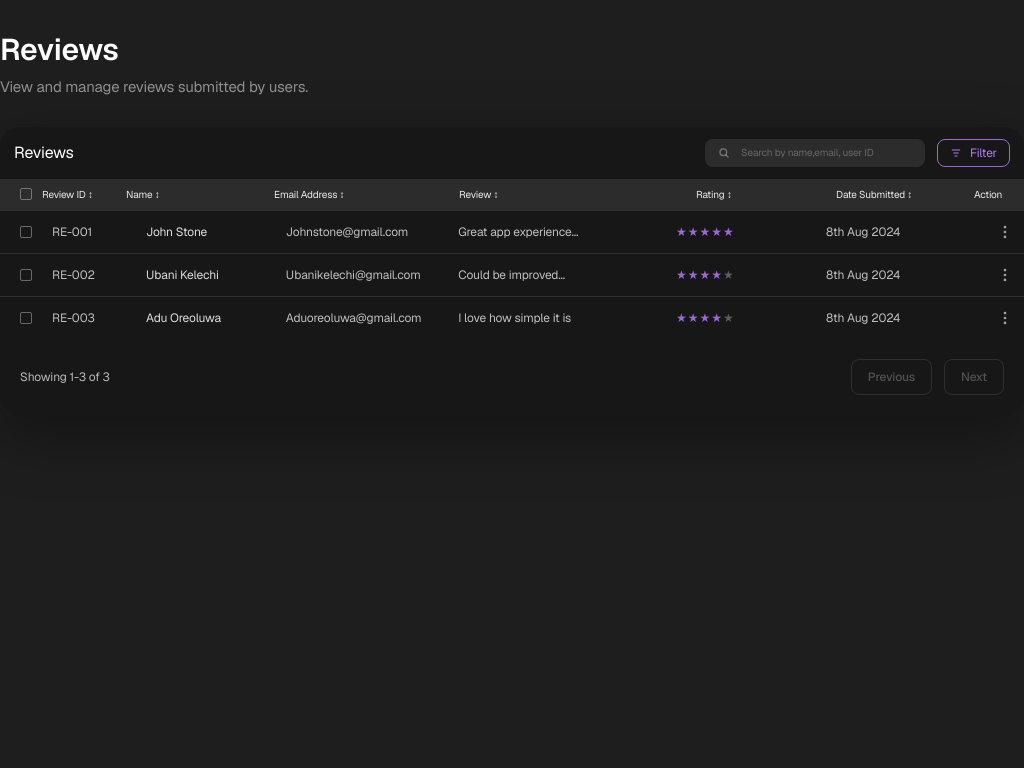
it: ReviewsPage › opens review filter and loaded details locally
Click the button "Filter": (974, 152) [937,138,1010,166]
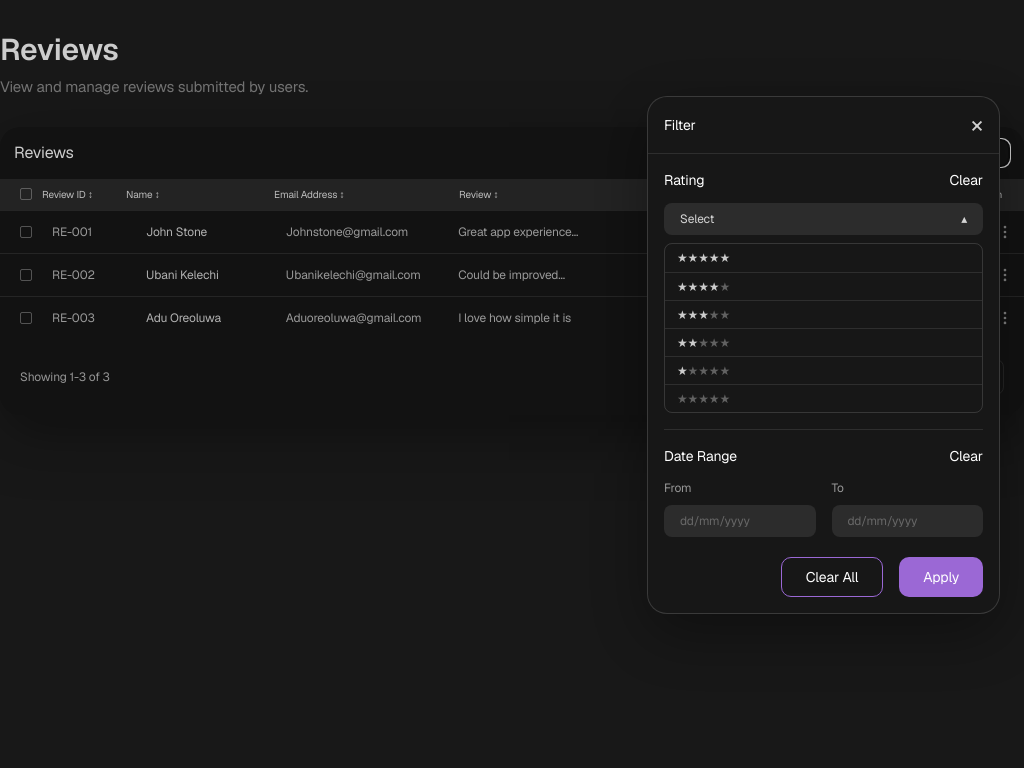
Result: the heading "Filter" is shown at [664,114,696,136]
Click the button named "Dismiss reviews filter": (977, 125) [971,113,983,137]
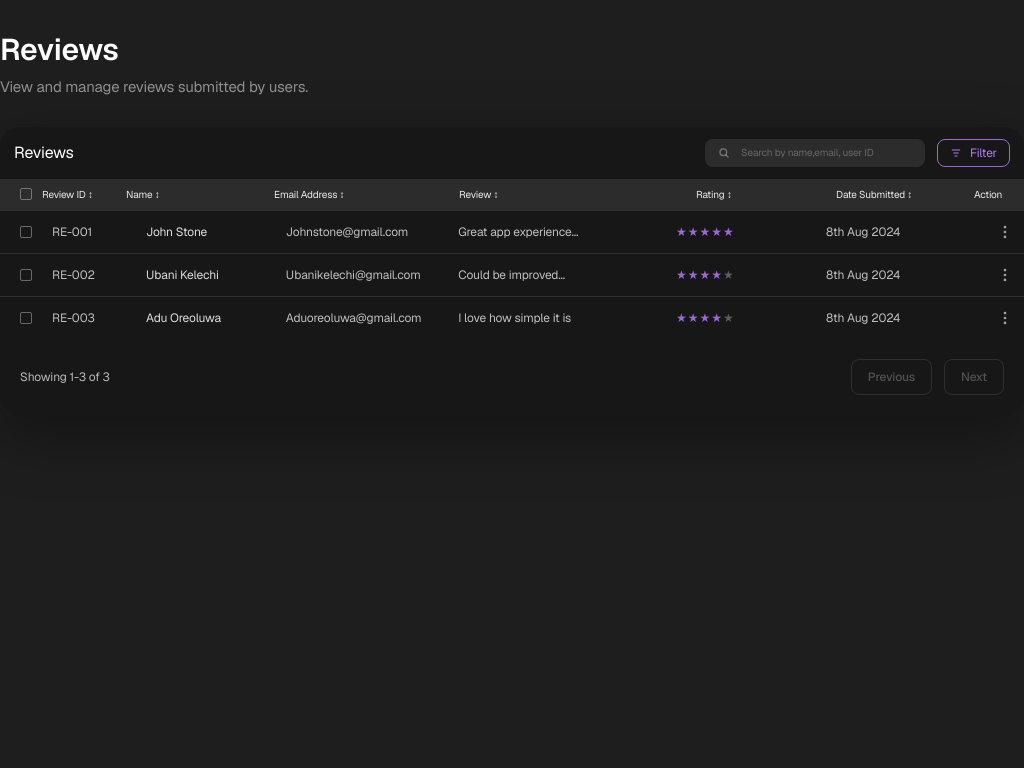
Click the button named "Open review actions 1": (1005, 232) [996,222,1014,240]
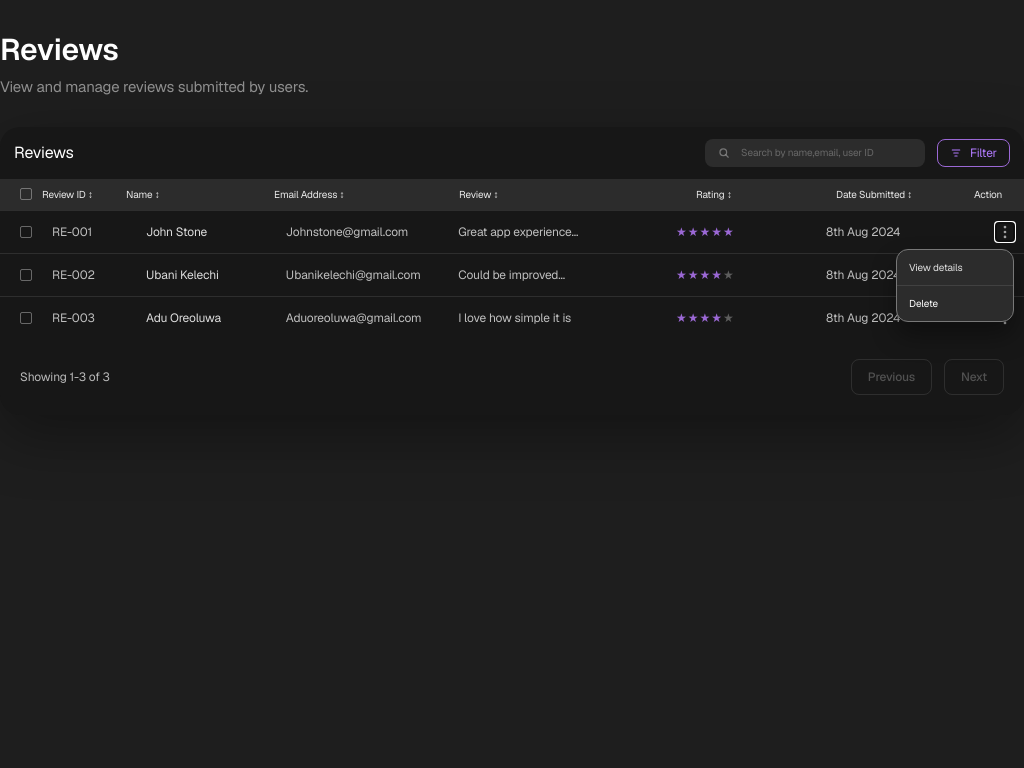
Click the button "View details": (955, 268) [897,250,1013,286]
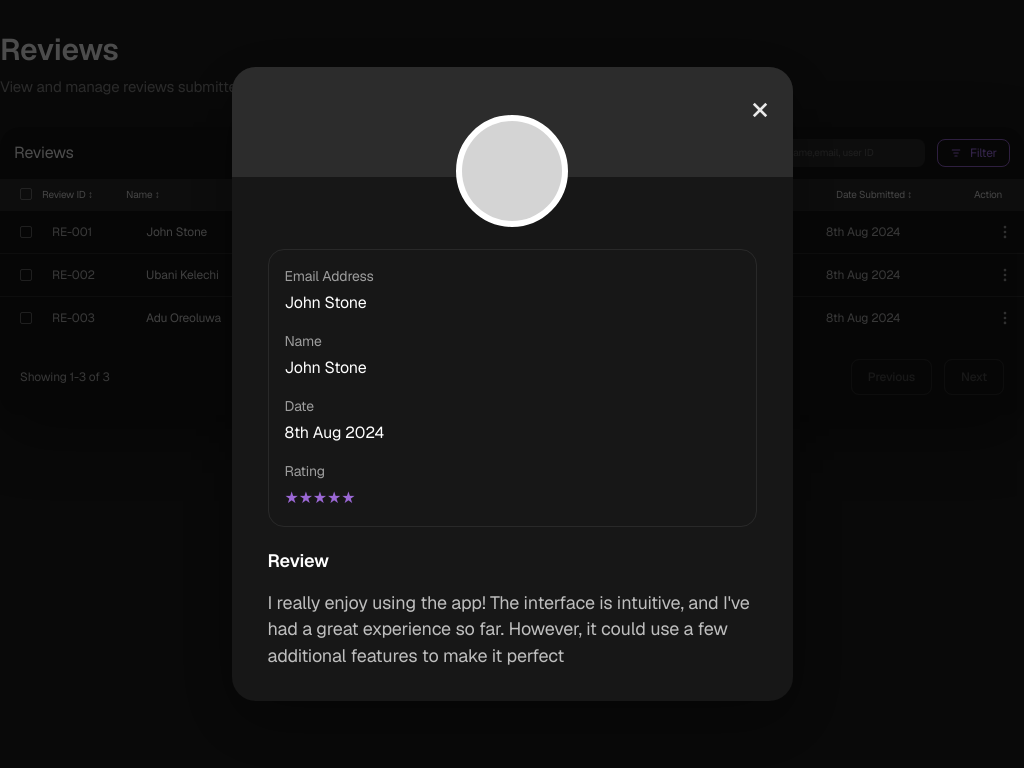
Result: the heading "Review" is shown at [268,549,329,572]
